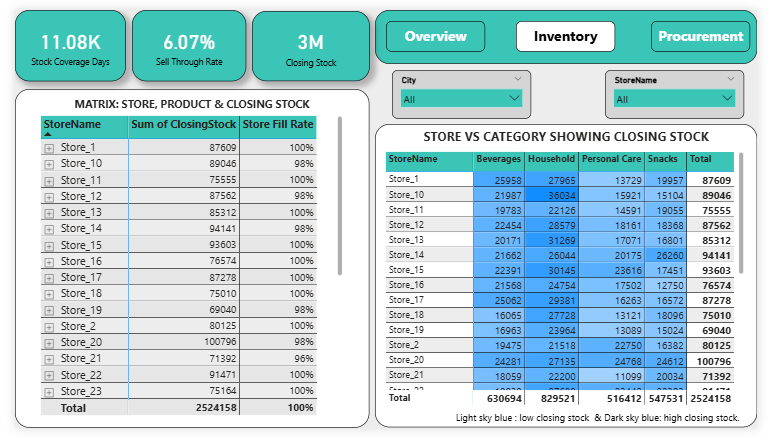

The page's visual inventory and layout, read from the dashboard file:
{"tool":"powerbi","page":{"name":"Inventory","canvas":[1280,720],"ordinal":1},"visuals":[{"type":"shape","box":[621.4,197.1,658.6,522.9],"z":0},{"type":"shape","box":[0,135.7,611.4,584.3],"z":1000},{"type":"card","fields":{"Values":["Measure Table.Stock Coverage Days"]},"box":[0,0,191.4,122.9],"z":2000},{"type":"shape","box":[621.4,0,658.6,92.9],"z":3000},{"type":"card","fields":{"Values":["Measure Table.Sell Through Rate"]},"box":[201.4,0,197.1,122.9],"z":4000},{"type":"card","fields":{"Values":["Measure Table.Closing Stock"]},"box":[408.6,1.4,202.9,121.4],"z":5000},{"type":"pivotTable","fields":{"Rows":["DimStore.StoreName","DimProduct.ProductName"],"Values":["Sum(FactInventory.ClosingStock)","Measure Table.Store Fill Rate"]},"box":[40,177.1,530,525.7],"z":6000},{"type":"pivotTable","fields":{"Values":["Sum(FactInventory.ClosingStock)"],"Columns":["DimProduct.Category"],"Rows":["DimStore.StoreName"]},"box":[634.3,240,627.1,445.7],"z":7000},{"type":"textbox","box":[681.4,198.6,538.6,60],"z":8000},{"type":"textbox","box":[755.7,685.7,511.4,34.3],"z":9000},{"type":"textbox","box":[95.7,142.9,417.1,44.3],"z":10000},{"type":"textbox","box":[863.3,18.7,171.4,53.3],"z":11000},{"type":"textbox","box":[639.4,18.7,171.4,53.3],"z":12000},{"type":"textbox","box":[1095.8,18.7,171.4,53.3],"z":13000},{"type":"actionButton","box":[649.4,23,151.2,49],"z":14000},{"type":"actionButton","box":[1105.9,21.6,151.2,49],"z":15000},{"type":"slicer","fields":{"Values":["DimStore.StoreName"]},"box":[1017.1,102.9,240,84.3],"z":16000},{"type":"slicer","fields":{"Values":["DimStore.City"]},"box":[650,102.9,240,84.3],"z":17000}]}

Visuals, with their boxes in screenshot pixels (x1, y1, x2, y2), scaled from the page's 1280x720 canvas onto the 772x438 screenshot:
shape: crop(375, 120, 771, 437)
shape: crop(0, 83, 369, 437)
card - Measure Table.Stock Coverage Days: crop(0, 0, 115, 75)
shape: crop(375, 0, 771, 57)
card - Measure Table.Sell Through Rate: crop(121, 0, 240, 75)
card - Measure Table.Closing Stock: crop(246, 1, 369, 75)
pivotTable - DimStore.StoreName x DimProduct.ProductName: crop(24, 108, 344, 428)
pivotTable - Sum(FactInventory.ClosingStock) x DimProduct.Category: crop(383, 146, 761, 417)
textbox: crop(411, 121, 736, 157)
textbox: crop(456, 417, 764, 437)
textbox: crop(58, 87, 309, 114)
textbox: crop(521, 11, 624, 44)
textbox: crop(386, 11, 489, 44)
textbox: crop(661, 11, 764, 44)
actionButton: crop(392, 14, 483, 44)
actionButton: crop(667, 13, 758, 43)
slicer - DimStore.StoreName: crop(613, 63, 758, 114)
slicer - DimStore.City: crop(392, 63, 537, 114)
